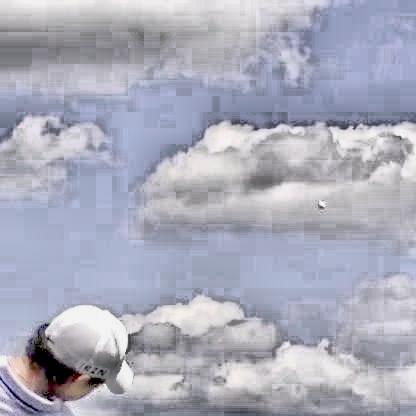golfball: (315, 199, 323, 207)
